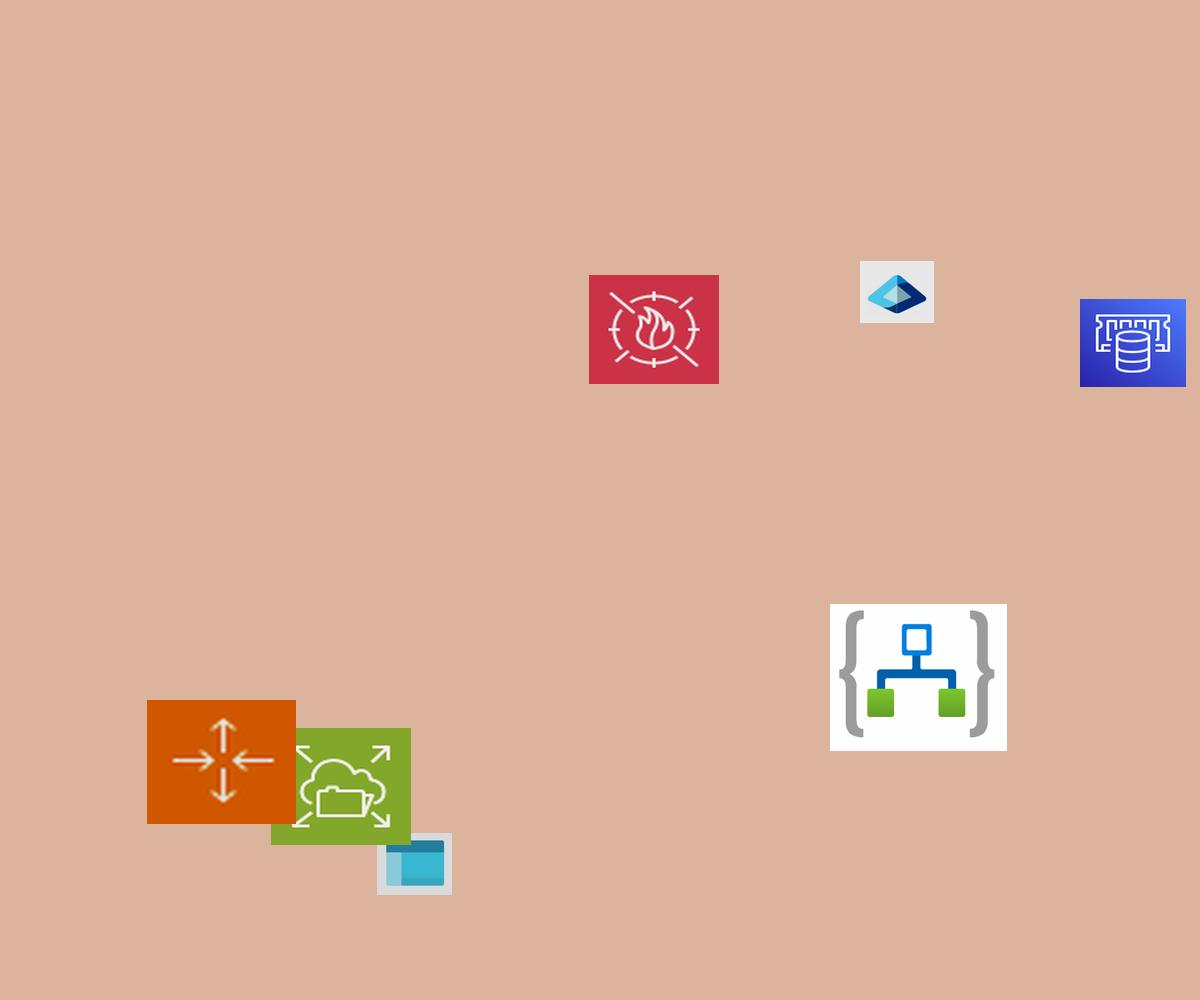AWS-EFS: (271, 728, 411, 845)
AWS-ElastiCache: (1080, 299, 1186, 387)
AWS-Scaling-group: (147, 700, 296, 824)
AWS-WAF: (589, 275, 719, 384)
Azure_integration-204-Logic-Apps: (830, 604, 1007, 751)
Azure_management-portal: (377, 833, 452, 895)
Azure_microsoft_entra: (860, 261, 934, 323)
